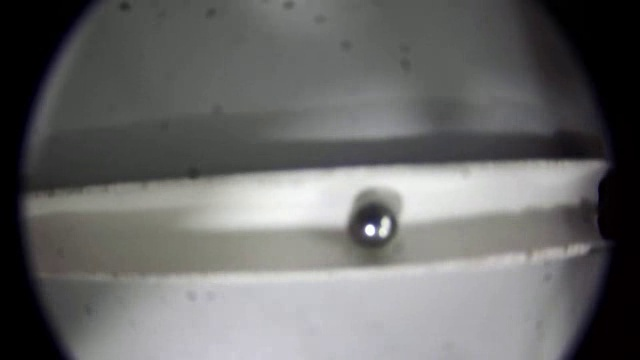gangzhu: (350, 201, 401, 248)
